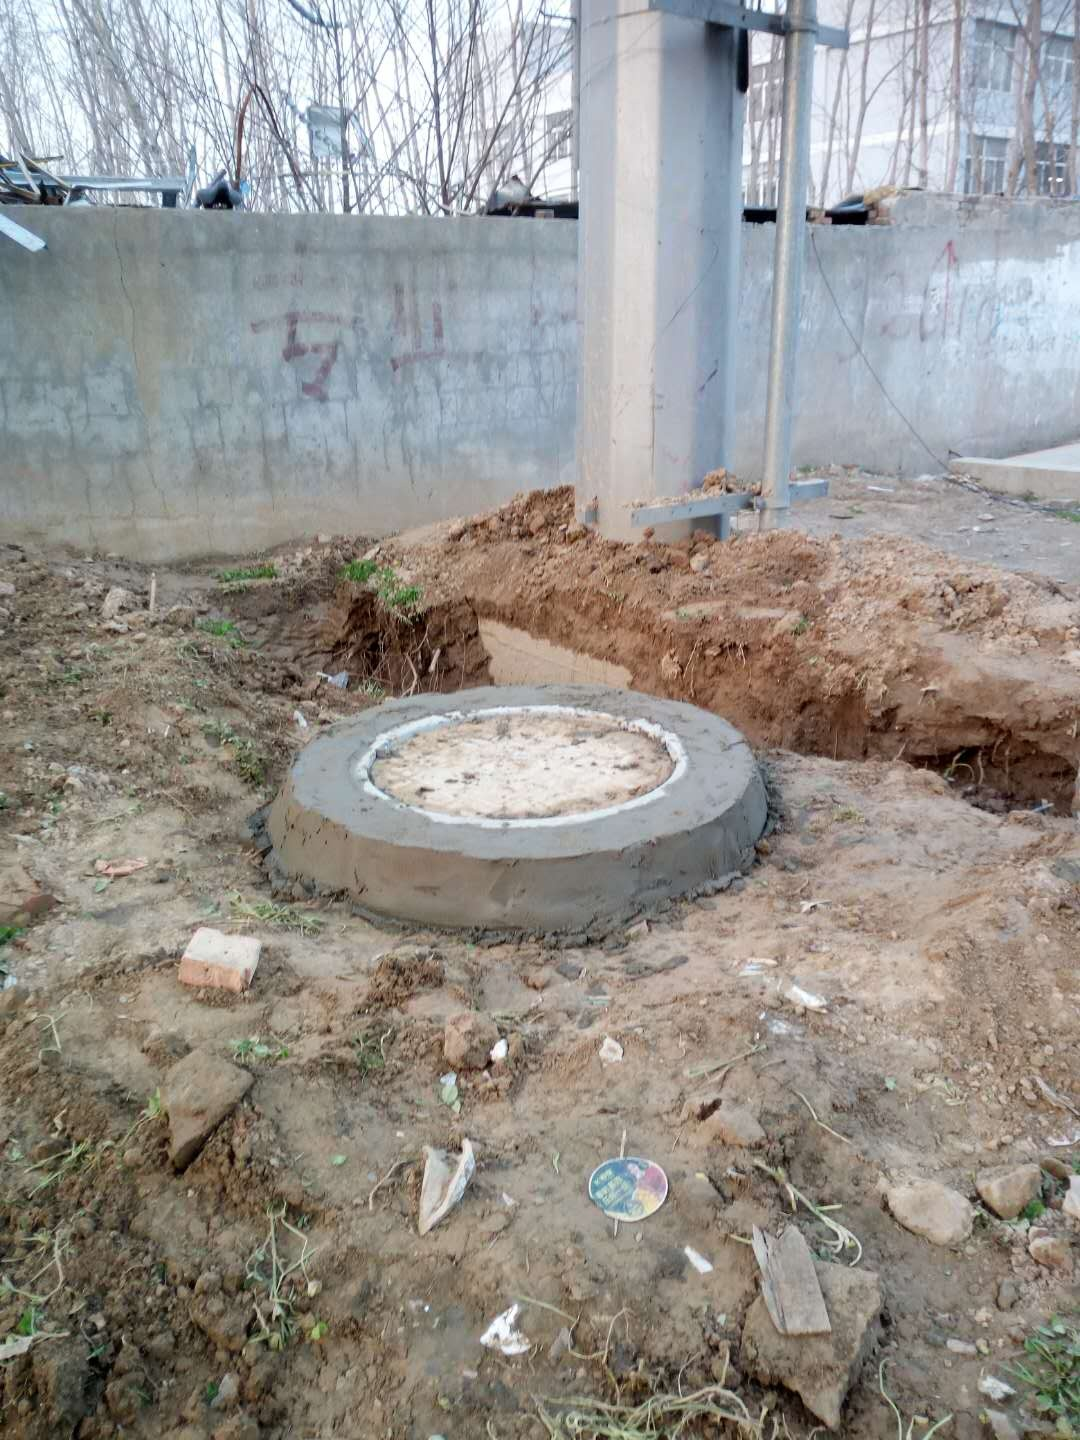good: (354, 700, 687, 825)
